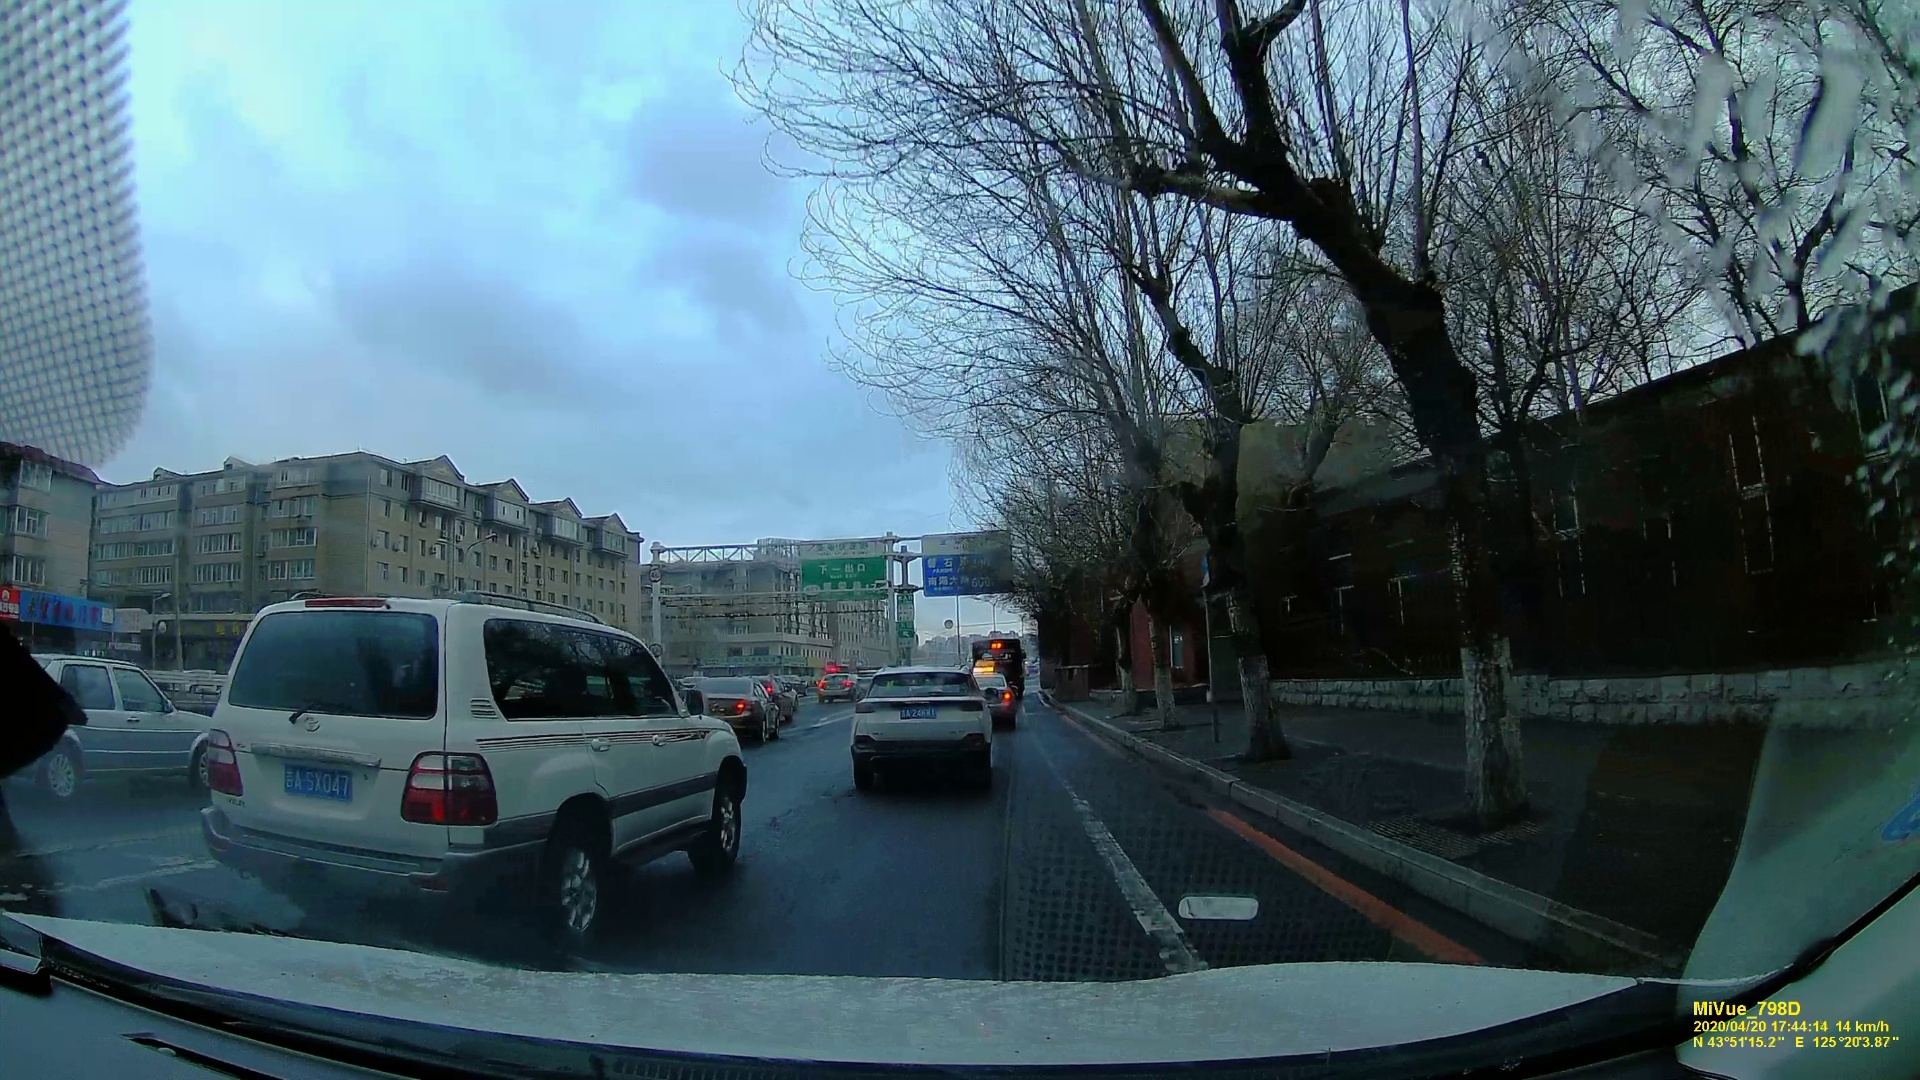bus: (965, 638, 1026, 709)
traffic_sign: (799, 538, 885, 601), (922, 534, 1013, 593)
vehicle: (183, 596, 752, 918), (33, 653, 196, 789), (847, 663, 996, 793), (688, 674, 793, 737), (816, 669, 855, 702)
